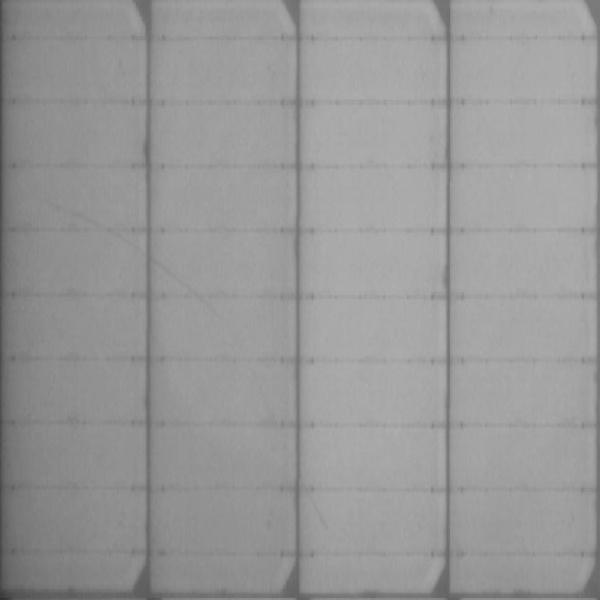scratch: (45, 199, 144, 253), (153, 257, 212, 294)
